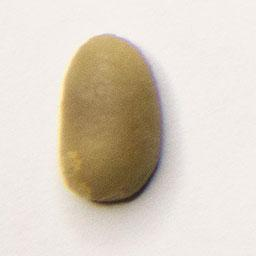longberry: (54, 30, 165, 207)
